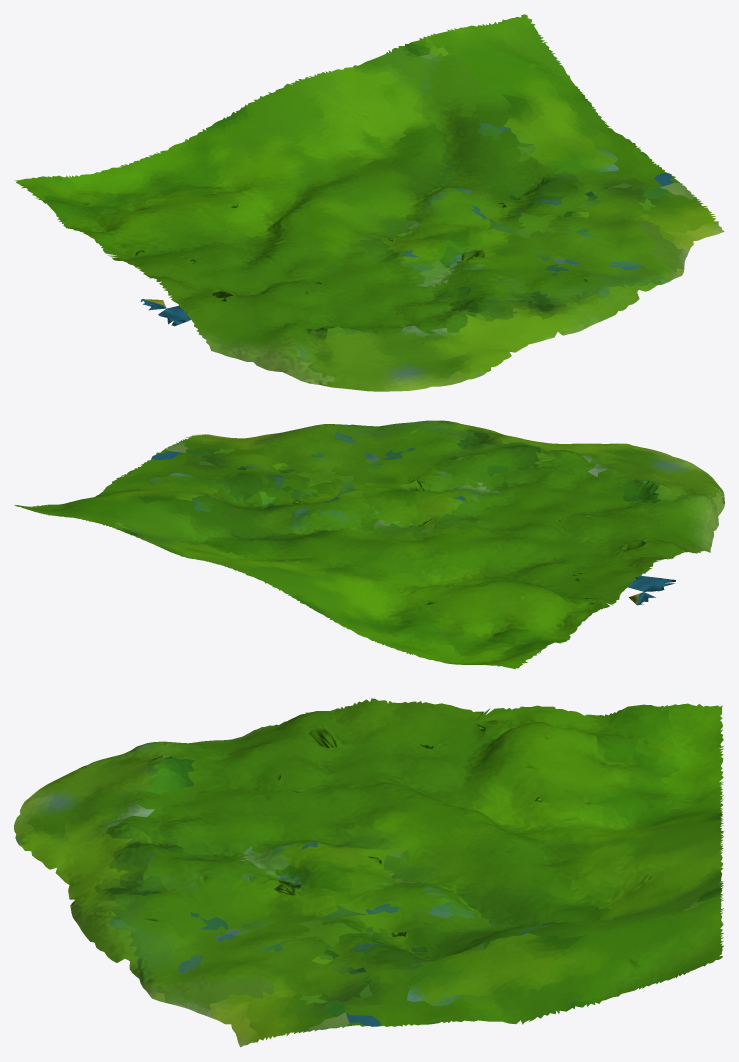
File: chunk_1_3_LOD0.glb
The picture shows the model from 3 angles, top to bottom: view 1: azimuth 30°, elevation 25°; view 2: azimuth 150°, elevation 25°; view 3: azimuth 270°, elevation 25°; orthographic projection. The views are drawn at different scales.
Visible parts, largest first — view 1: chunk_1_3_LOD0; view 2: chunk_1_3_LOD0; view 3: chunk_1_3_LOD0.
Boxes of the visible parts, box(x1,y1,x2,y2) form: chunk_1_3_LOD0: box(14, 14, 724, 391); chunk_1_3_LOD0: box(14, 420, 724, 669); chunk_1_3_LOD0: box(14, 698, 723, 1047).
Size of the model in its own units: 101 by 13.98 by 97.2.
Materials: 1 (1 with a texture image).
